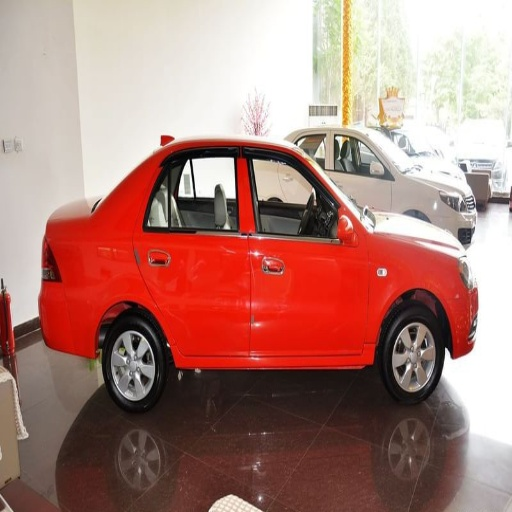back_right_door: (137, 146, 256, 356)
front_right_door: (244, 145, 369, 355)
